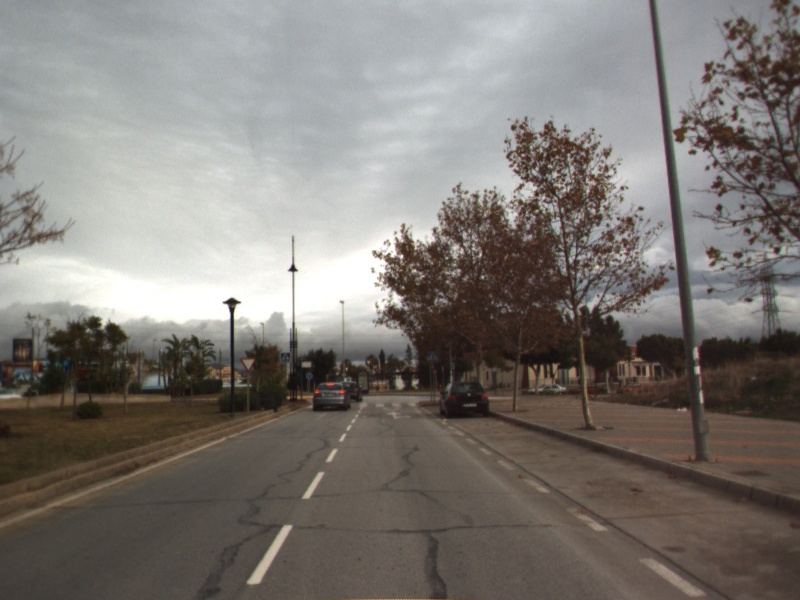STRAIGHT_RIGHT: (384, 409, 414, 421)
